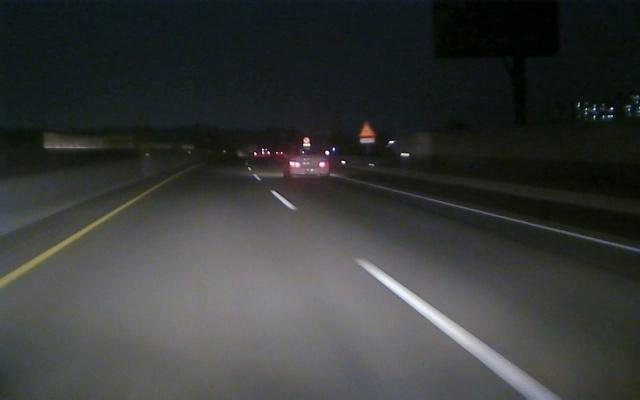lane: (270, 191, 558, 396), (363, 182, 640, 253), (3, 198, 138, 287)
